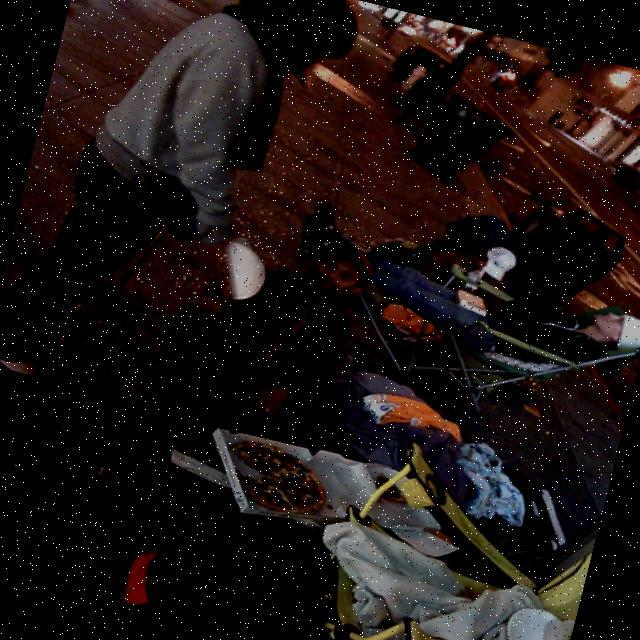fire_hydrant: (398, 60, 428, 94)
